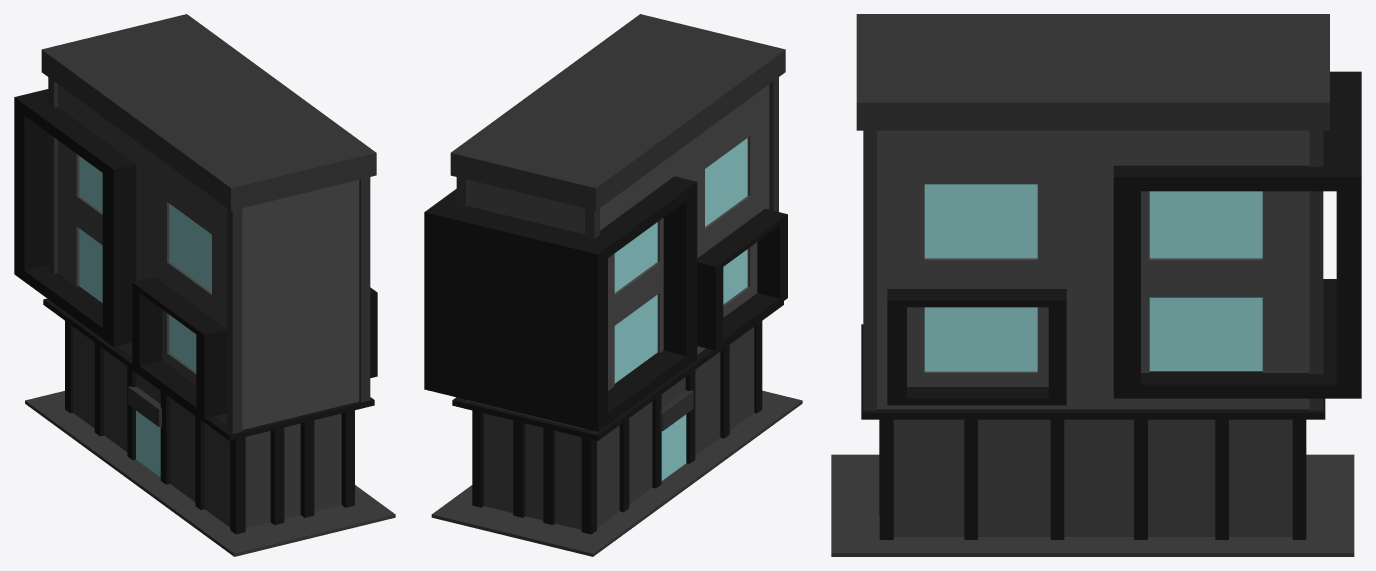
File: SmallBuilding4.fbx
The picture shows the model from 3 angles, left to right: view 1: azimuth 30°, elevation 25°; view 2: azimuth 150°, elevation 25°; view 3: azimuth 270°, elevation 25°; orthographic projection. The views are drawn at different scales.
Visible parts, largest first — view 1: Cube.001, Cube.008, Cube.017, Cube.002, Cube, Cube.018, Cube.023, Cube.013, Cube.009, Cube.007, Cube.014, Cube.005 (+10 smaller); view 2: Cube.017, Cube.008, Cube.001, Cube.002, Cube, Cube.023, Cube.018, Cube.009, Cube.006, Cube.013, Cube.033, Cube.029 (+9 smaller); view 3: Cube.001, Cube.008, Cube.002, Cube.022, Cube.017, Cube, Cube.018, Cube.009, Cube.007, Cube.010, Cube.003, Cube.004 (+4 smaller).
Boxes of the visible parts, box(x1,y1,x2,y2) form: Cube.001: box(58, 84, 359, 429); Cube.008: box(41, 14, 376, 210); Cube.017: box(14, 89, 136, 346); Cube.002: box(73, 327, 341, 528); Cube: box(25, 391, 395, 556); Cube.018: box(132, 277, 377, 418); Cube.023: box(79, 156, 211, 371); Cube.013: box(227, 208, 242, 433); Cube.009: box(43, 298, 374, 440); Cube.007: box(359, 177, 370, 402); Cube.014: box(48, 77, 57, 273); Cube.005: box(230, 437, 245, 534); Cube.017: box(424, 176, 697, 431); Cube.008: box(450, 14, 785, 210); Cube.001: box(468, 84, 769, 429); Cube.002: box(484, 327, 754, 529); Cube: box(431, 390, 802, 556); Cube.023: box(614, 138, 747, 383); Cube.018: box(697, 208, 787, 350); Cube.009: box(452, 301, 783, 440); Cube.006: box(581, 437, 596, 534); Cube.013: box(769, 77, 778, 211); Cube.033: box(661, 414, 686, 480); Cube.029: box(513, 420, 525, 517); Cube.001: box(877, 130, 1309, 409); Cube.008: box(856, 14, 1329, 130); Cube.002: box(893, 419, 1292, 536); Cube.022: box(924, 184, 1262, 371); Cube.017: box(1113, 71, 1361, 398); Cube: box(831, 454, 1354, 556); Cube.018: box(887, 289, 1066, 405); Cube.009: box(861, 324, 1325, 419); Cube.007: box(863, 130, 876, 410); Cube.010: box(1309, 130, 1323, 410); Cube.003: box(879, 419, 893, 539); Cube.004: box(1292, 419, 1306, 539).
Size of the model in its own units: 2051 by 4104 by 4349.
